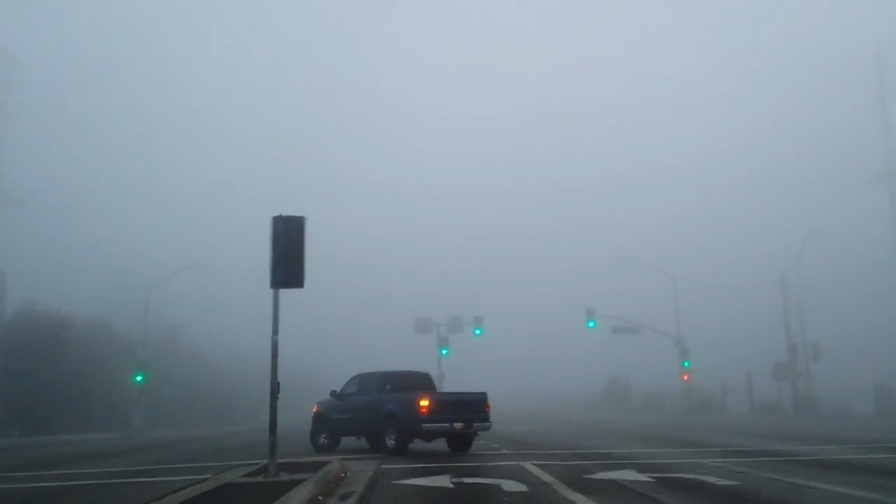car: (308, 369, 493, 455)
